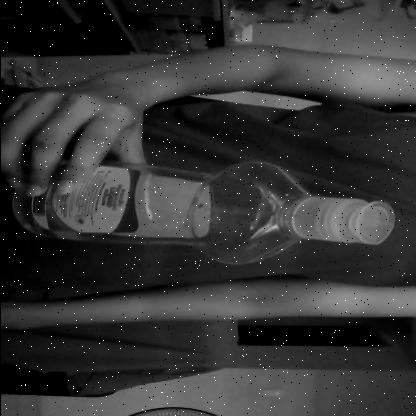Plastic Bottle: (8, 153, 400, 267)
